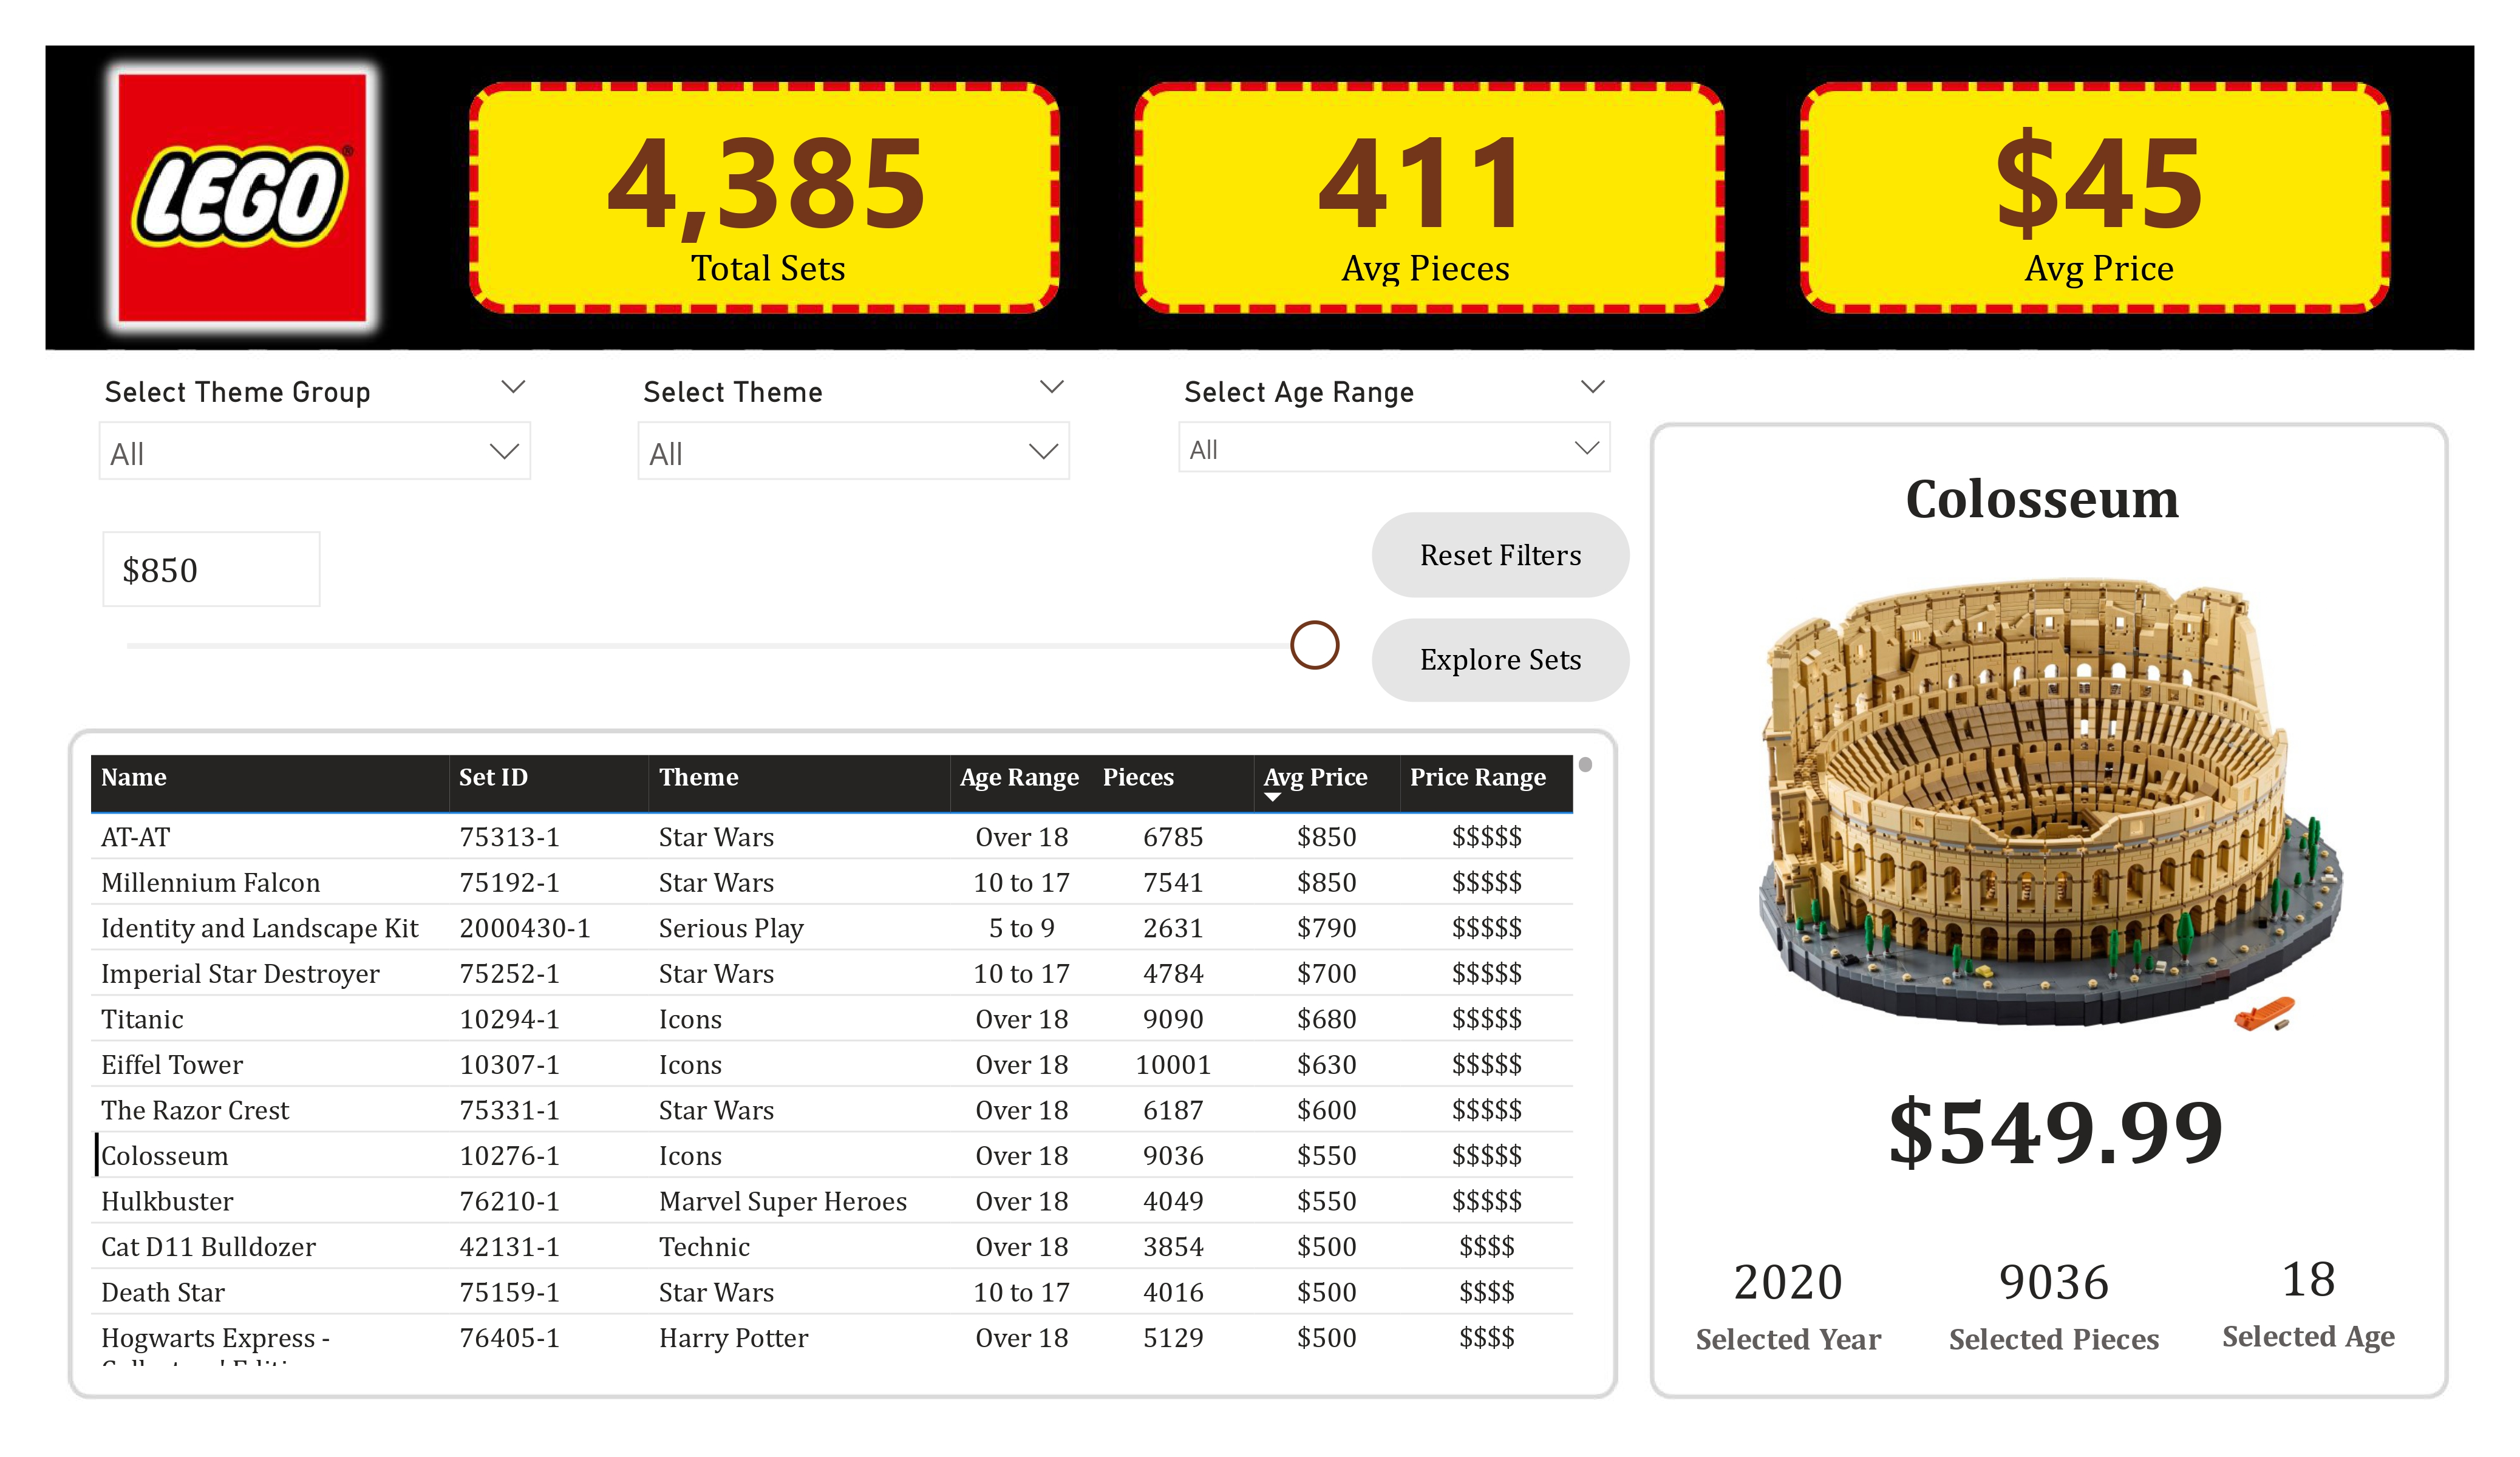

The page's visual inventory and layout, read from the dashboard file:
{"tool":"powerbi","page":{"name":"Lego-Finder","canvas":[1280,720],"ordinal":0},"visuals":[{"type":"card","fields":{"Values":["Measure_Table.Total Sets"]},"box":[241.1,21,280,111.1],"z":0},{"type":"card","fields":{"Values":["Measure_Table.Avg Price"]},"box":[933.3,11,298.9,131.1],"z":1000},{"type":"card","fields":{"Values":["Measure_Table.Avg Pieces"]},"box":[586.9,20.9,280.6,111.2],"z":2000},{"type":"slicer","fields":{"Values":["lego_sets.themeGroup"]},"box":[17.5,167.5,248.3,72.5],"z":3000},{"type":"slicer","fields":{"Values":["lego_sets.Age Range"]},"box":[586.7,167.5,248.3,72.5],"z":4000},{"type":"slicer","fields":{"Values":["lego_sets.theme"]},"box":[302.1,167.5,248.3,72.5],"z":5000},{"type":"simpleImageEBC4593F96F1425FB3D84C5BF02B5075","fields":{"imageURL":["lego_sets.imageURL"]},"box":[858.8,274.7,394.7,250.1],"z":6000},{"type":"tableEx","fields":{"Values":["lego_sets.name","lego_sets.set_id","lego_sets.theme","lego_sets.Age Range","lego_sets.pieces","Measure_Table.Avg Price","lego_sets.Price Range"]},"box":[17.5,368.8,803.8,332.5],"z":7000},{"type":"card","fields":{"Values":["Measure_Table.Selected Price"]},"box":[859,524.5,401.2,89.3],"z":8000},{"type":"card","fields":{"Values":["Measure_Table.Selected Set"]},"box":[851.6,203.9,401.9,68],"z":9000},{"type":"card","fields":{"Values":["Measure_Table.Selected Year"]},"box":[852,616.7,133.3,87.3],"z":10000},{"type":"card","fields":{"Values":["Measure_Table.Selected Pieces"]},"box":[985.3,616.7,146.7,87.3],"z":11000},{"type":"card","fields":{"Values":["Measure_Table.Selected Age"]},"box":[1132,615.3,121.3,88],"z":12000},{"type":"slicer","fields":{"Values":["Max Price.Max Price"]},"box":[17.3,245.8,672.3,101.2],"z":13000},{"type":"actionButton","box":[698.8,245.9,135.9,44.7],"z":14000},{"type":"actionButton","box":[698.8,301.8,135.9,44.7],"z":15000}]}

Visuals, with their boxes in screenshot pixels (x1, y1, x2, y2):
card - Measure_Table.Total Sets: x1=503, y1=86, x2=1034, y2=296
card - Measure_Table.Avg Price: x1=1817, y1=66, x2=2384, y2=315
card - Measure_Table.Avg Pieces: x1=1159, y1=85, x2=1692, y2=296
slicer - lego_sets.themeGroup: x1=79, y1=363, x2=550, y2=501
slicer - lego_sets.Age Range: x1=1159, y1=363, x2=1630, y2=501
slicer - lego_sets.theme: x1=619, y1=363, x2=1090, y2=501
simpleImageEBC4593F96F1425FB3D84C5BF02B5075 - lego_sets.imageURL: x1=1675, y1=566, x2=2424, y2=1041
tableEx - lego_sets.name x lego_sets.set_id: x1=79, y1=745, x2=1604, y2=1376
card - Measure_Table.Selected Price: x1=1675, y1=1041, x2=2437, y2=1210
card - Measure_Table.Selected Set: x1=1661, y1=432, x2=2424, y2=562
card - Measure_Table.Selected Year: x1=1663, y1=1215, x2=1915, y2=1381
card - Measure_Table.Selected Pieces: x1=1915, y1=1215, x2=2193, y2=1381
card - Measure_Table.Selected Age: x1=2193, y1=1213, x2=2424, y2=1380
slicer - Max Price.Max Price: x1=78, y1=512, x2=1354, y2=704
actionButton: x1=1372, y1=512, x2=1629, y2=597
actionButton: x1=1372, y1=618, x2=1629, y2=703
